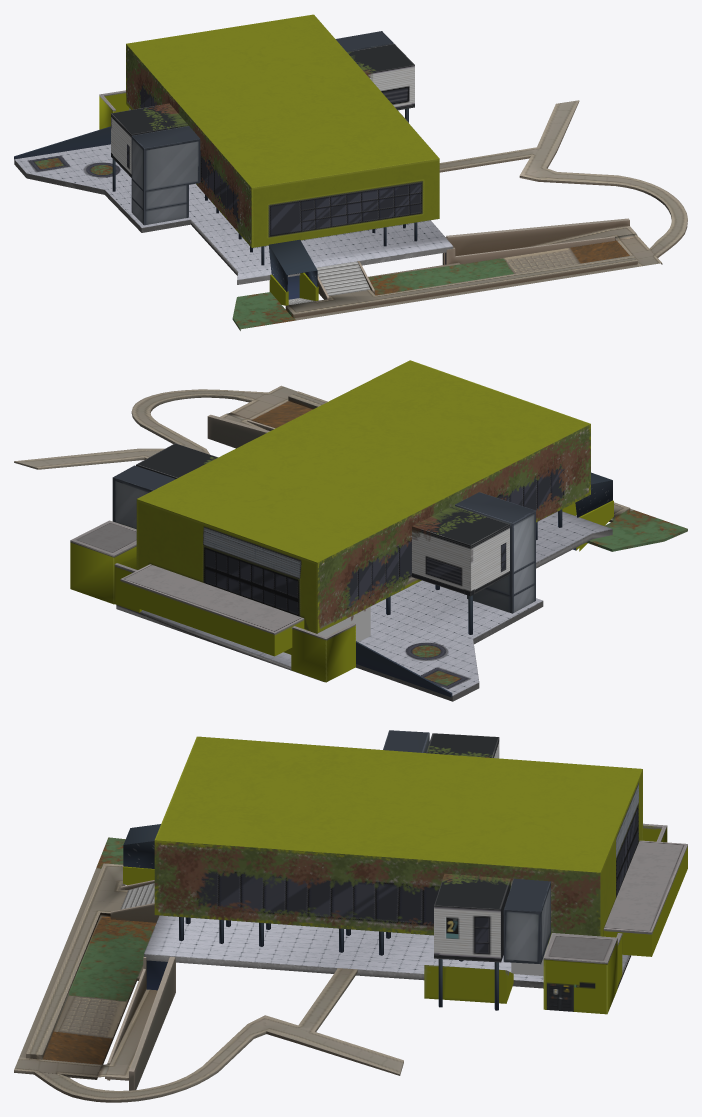
The model's file is BLOQUE27v2.fbx.
3 views of the same model, one above another, from view 1: azimuth 30°, elevation 25°; view 2: azimuth 150°, elevation 25°; view 3: azimuth 270°, elevation 25° (orthographic). The views are drawn at different scales.
Parts seen in each view (by area): view 1: LOW.001; view 2: LOW.001; view 3: LOW.001.
Part boxes in pixels (bbox=[...]): LOW.001: bbox=[14, 14, 687, 330]; LOW.001: bbox=[14, 360, 687, 701]; LOW.001: bbox=[14, 730, 687, 1102].
Size of the model in its own units: 5039 by 1198 by 4983.
